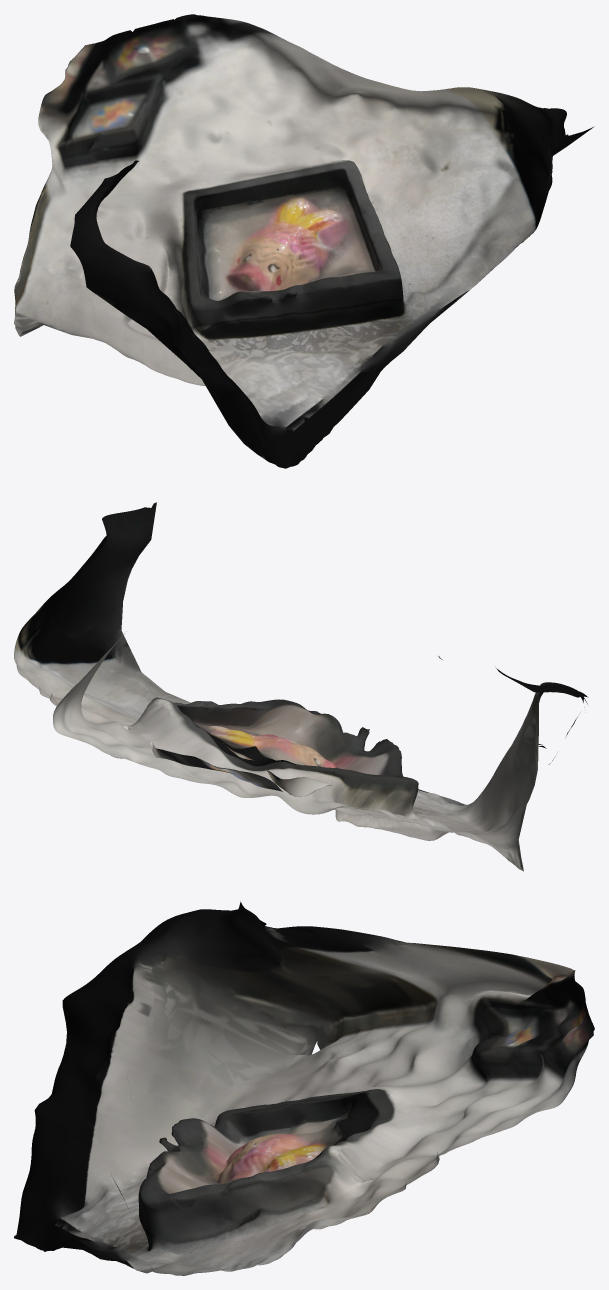
3 views of the same model, one above another, from view 1: azimuth 30°, elevation 25°; view 2: azimuth 150°, elevation 25°; view 3: azimuth 270°, elevation 25° (orthographic). The views are drawn at different scales.
Bounding box in the file's own units: 0.7592 × 0.3631 × 0.6697.
1 material, 1 textured.
